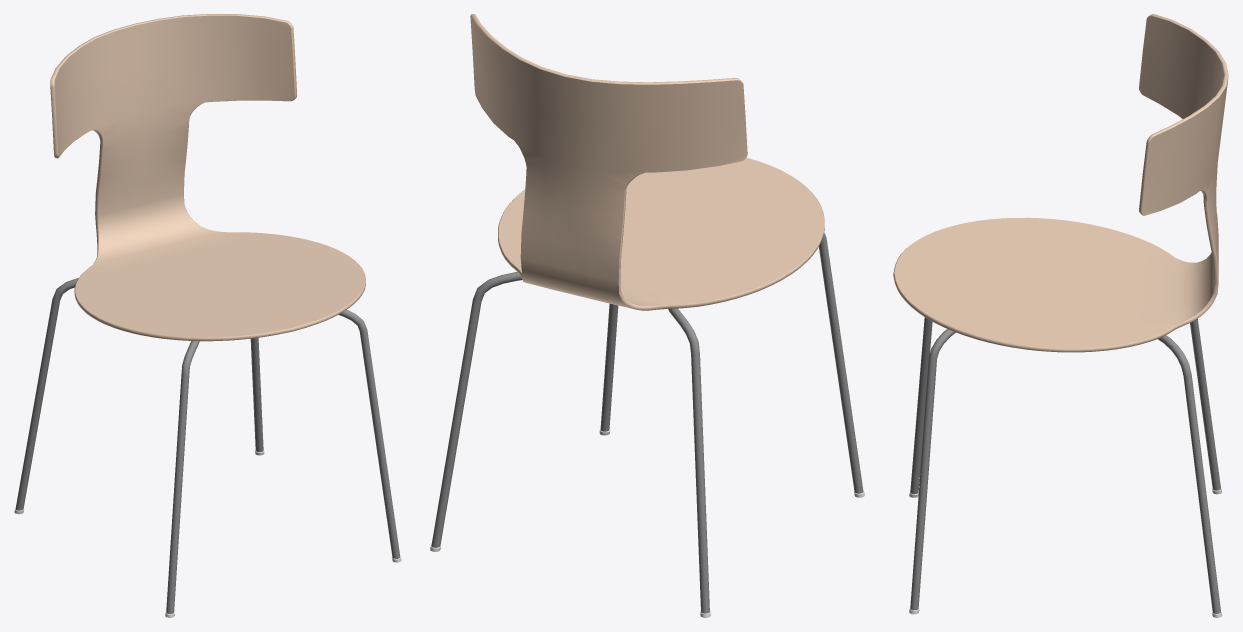
File: chair1.fbx
The picture shows the model from 3 angles, left to right: view 1: azimuth 30°, elevation 25°; view 2: azimuth 150°, elevation 25°; view 3: azimuth 270°, elevation 25°; orthographic projection. The views are drawn at different scales.
Parts seen in each view (by area): view 1: lapalma_fedra; view 2: lapalma_fedra; view 3: lapalma_fedra.
Boxes of the visible parts, <box> form: lapalma_fedra: <box>14,14,401,617</box>; lapalma_fedra: <box>430,14,864,617</box>; lapalma_fedra: <box>893,14,1228,617</box>.
Bounding box in the file's own units: 4.16 × 7.21 × 4.55.
